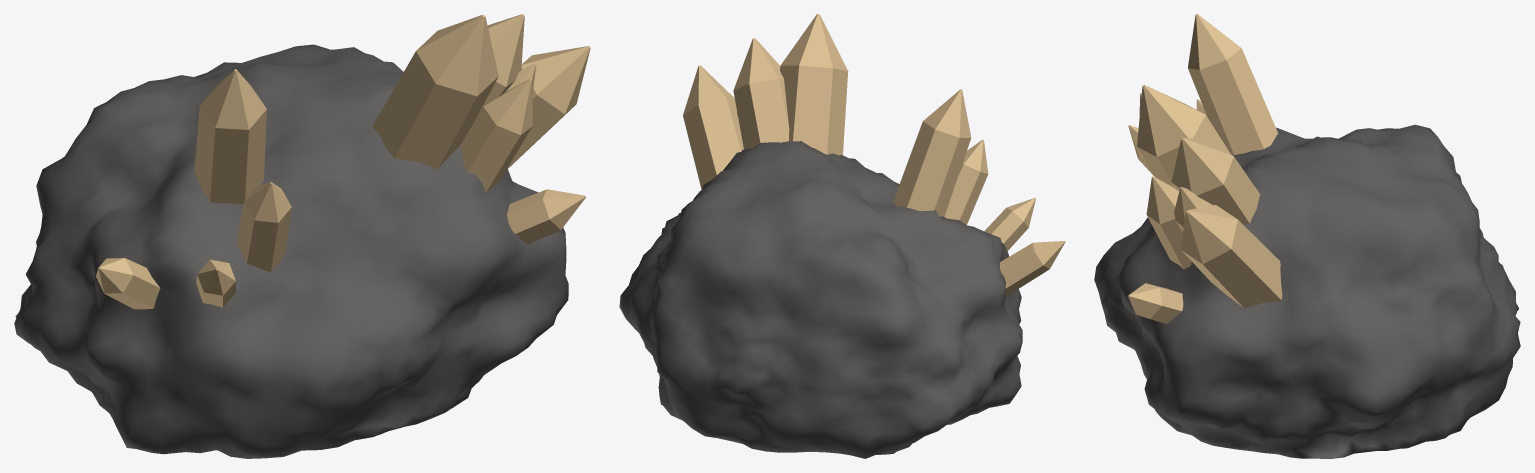
Rendered from scheelite_deep.glb.
3 renders of one model, left to right at view 1: azimuth 30°, elevation 25°; view 2: azimuth 150°, elevation 25°; view 3: azimuth 270°, elevation 25°, orthographic. The views are drawn at different scales.
Visible parts, largest first — view 1: scheelite_deep; view 2: scheelite_deep; view 3: scheelite_deep.
Boxes of the visible parts, left/top/right/bottom form: scheelite_deep: left=14, top=14, right=590, bottom=458; scheelite_deep: left=619, top=14, right=1065, bottom=458; scheelite_deep: left=1094, top=14, right=1520, bottom=458.
Size of the model in its own units: 1.86 by 1.45 by 1.63.
